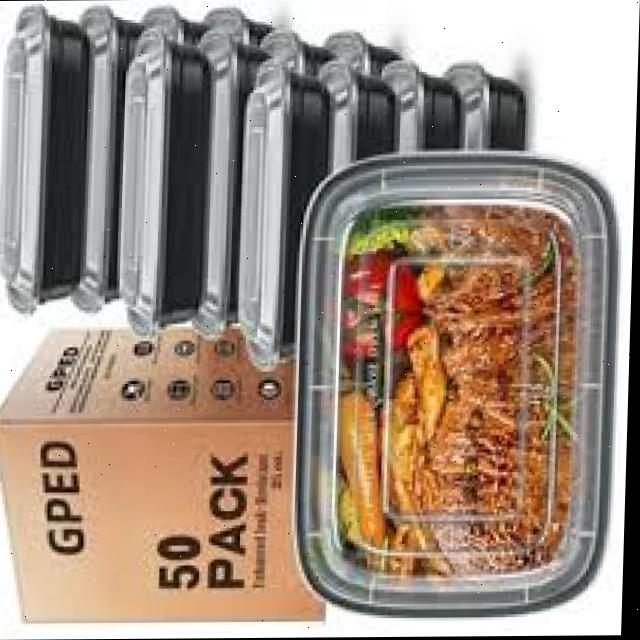disposable: (292, 125, 626, 623), (115, 16, 229, 355), (233, 65, 341, 367), (0, 17, 106, 314)
